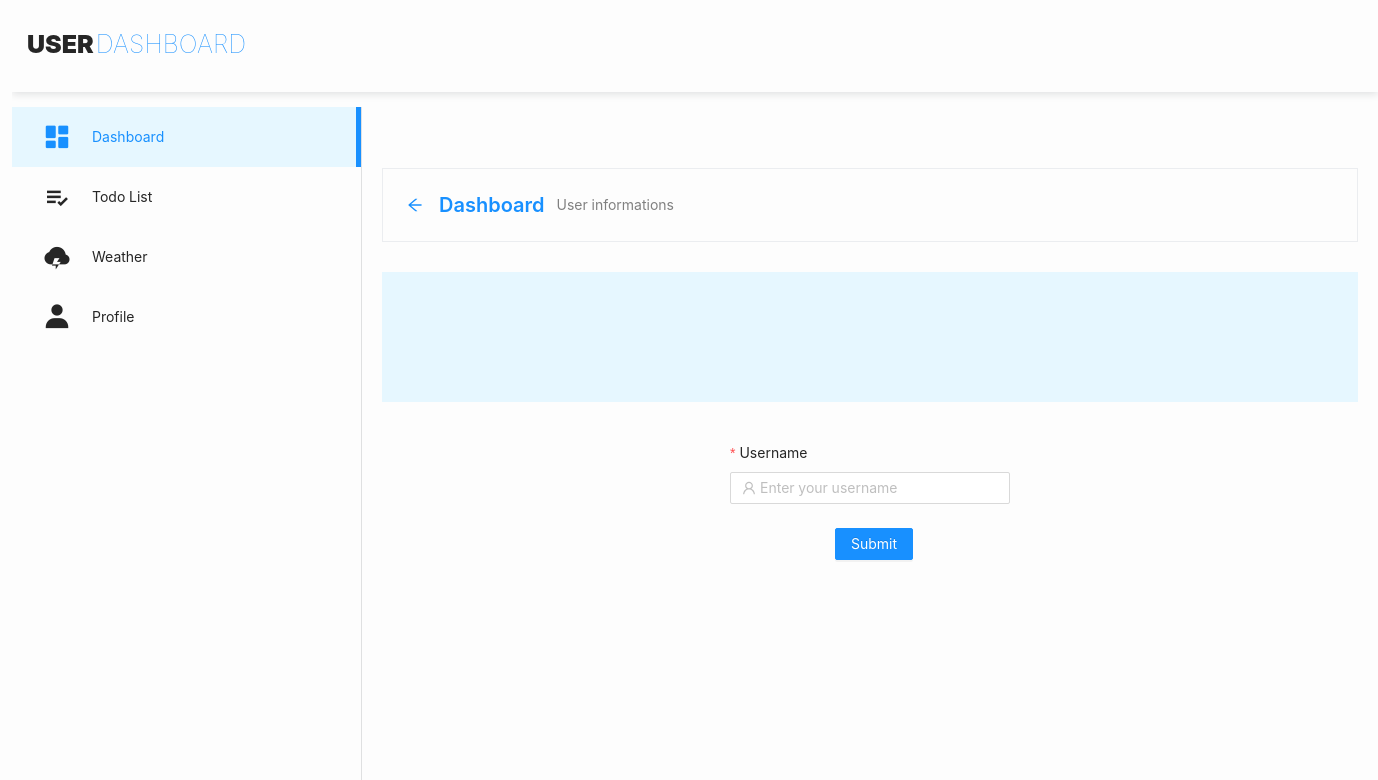
Test: Submit the form with validation check › should show validation error if there are errors, and hide the form if there are no errors and show  the user name
// submit form button
Click the button with class "submit-btn": coordinates (874, 544) left=835, top=528, right=913, bottom=560
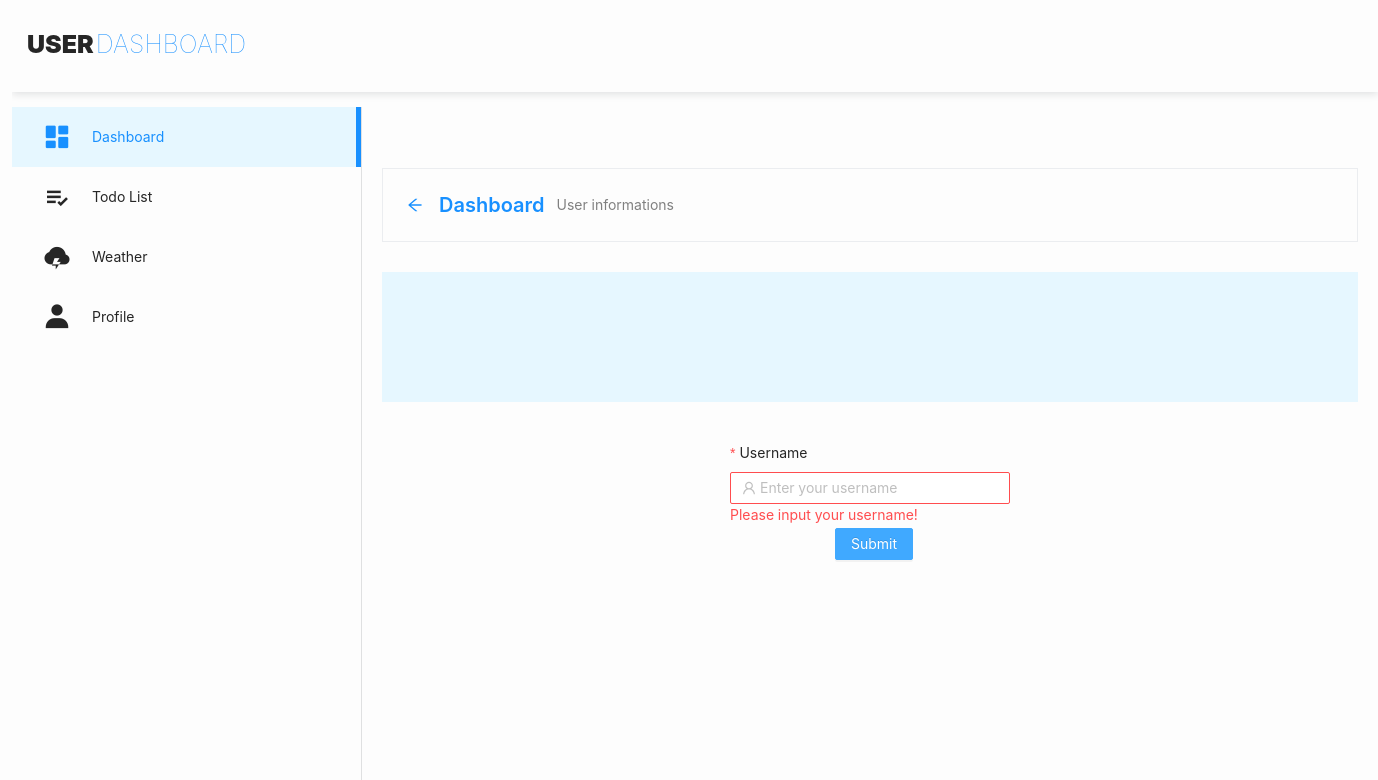
Check: the message "Please input your username!" is shown, box left=730, top=506, right=918, bottom=523
// Fill in the form fields with valid values
In the element with class "username-input": coordinates (870, 488) left=730, top=472, right=1010, bottom=504, type "saeed alipanah"
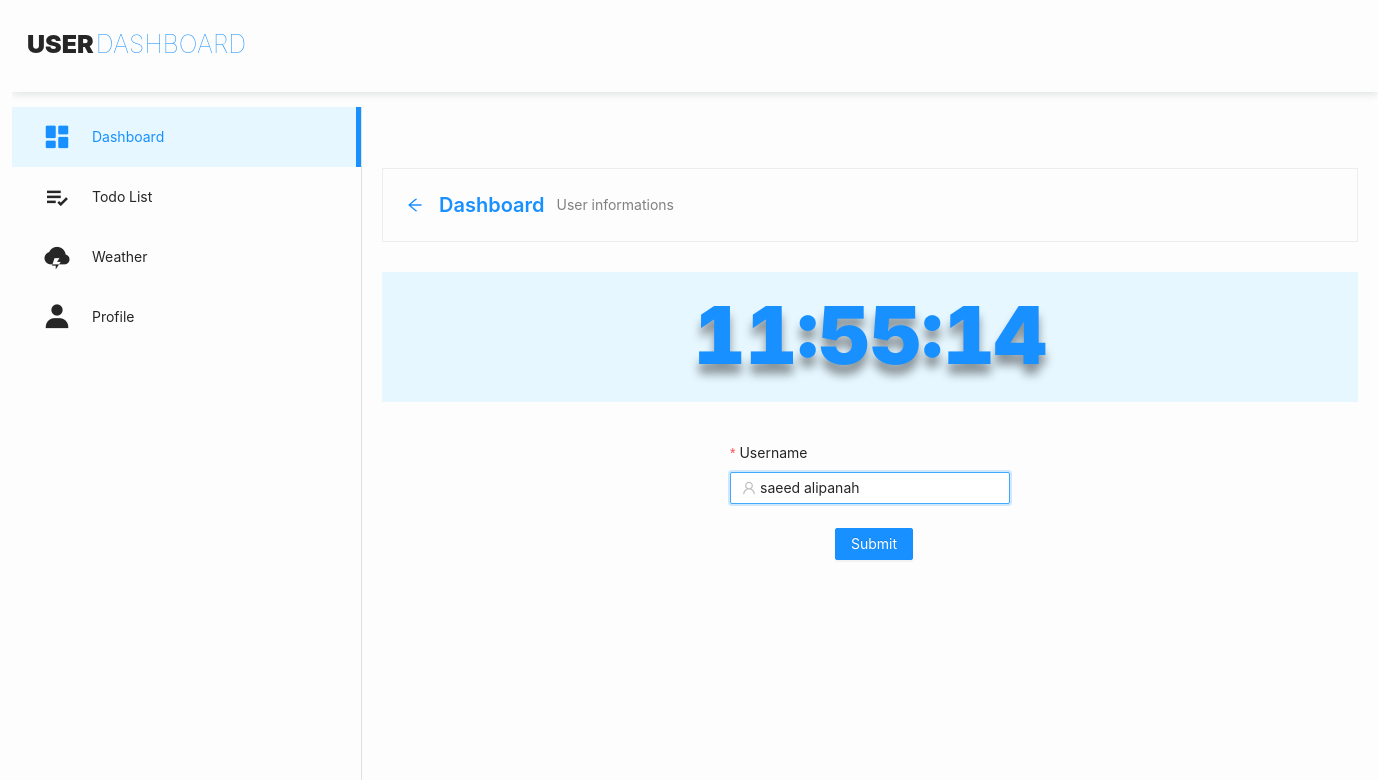
// Click the button again after filling the form fields
Click the button with class "submit-btn": coordinates (874, 544) left=835, top=528, right=913, bottom=560
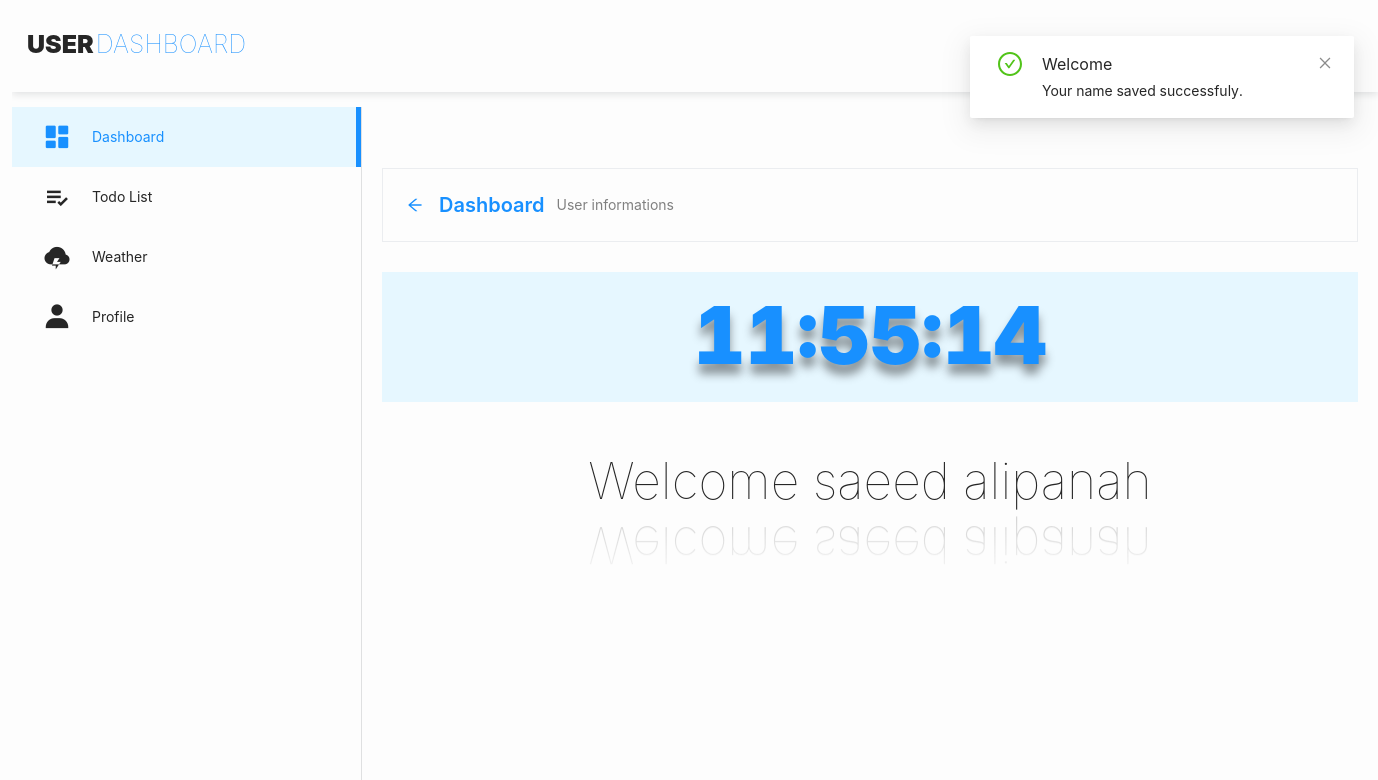
Check: the heading "Welcome saeed alipanah" is shown, box left=588, top=451, right=1152, bottom=511
